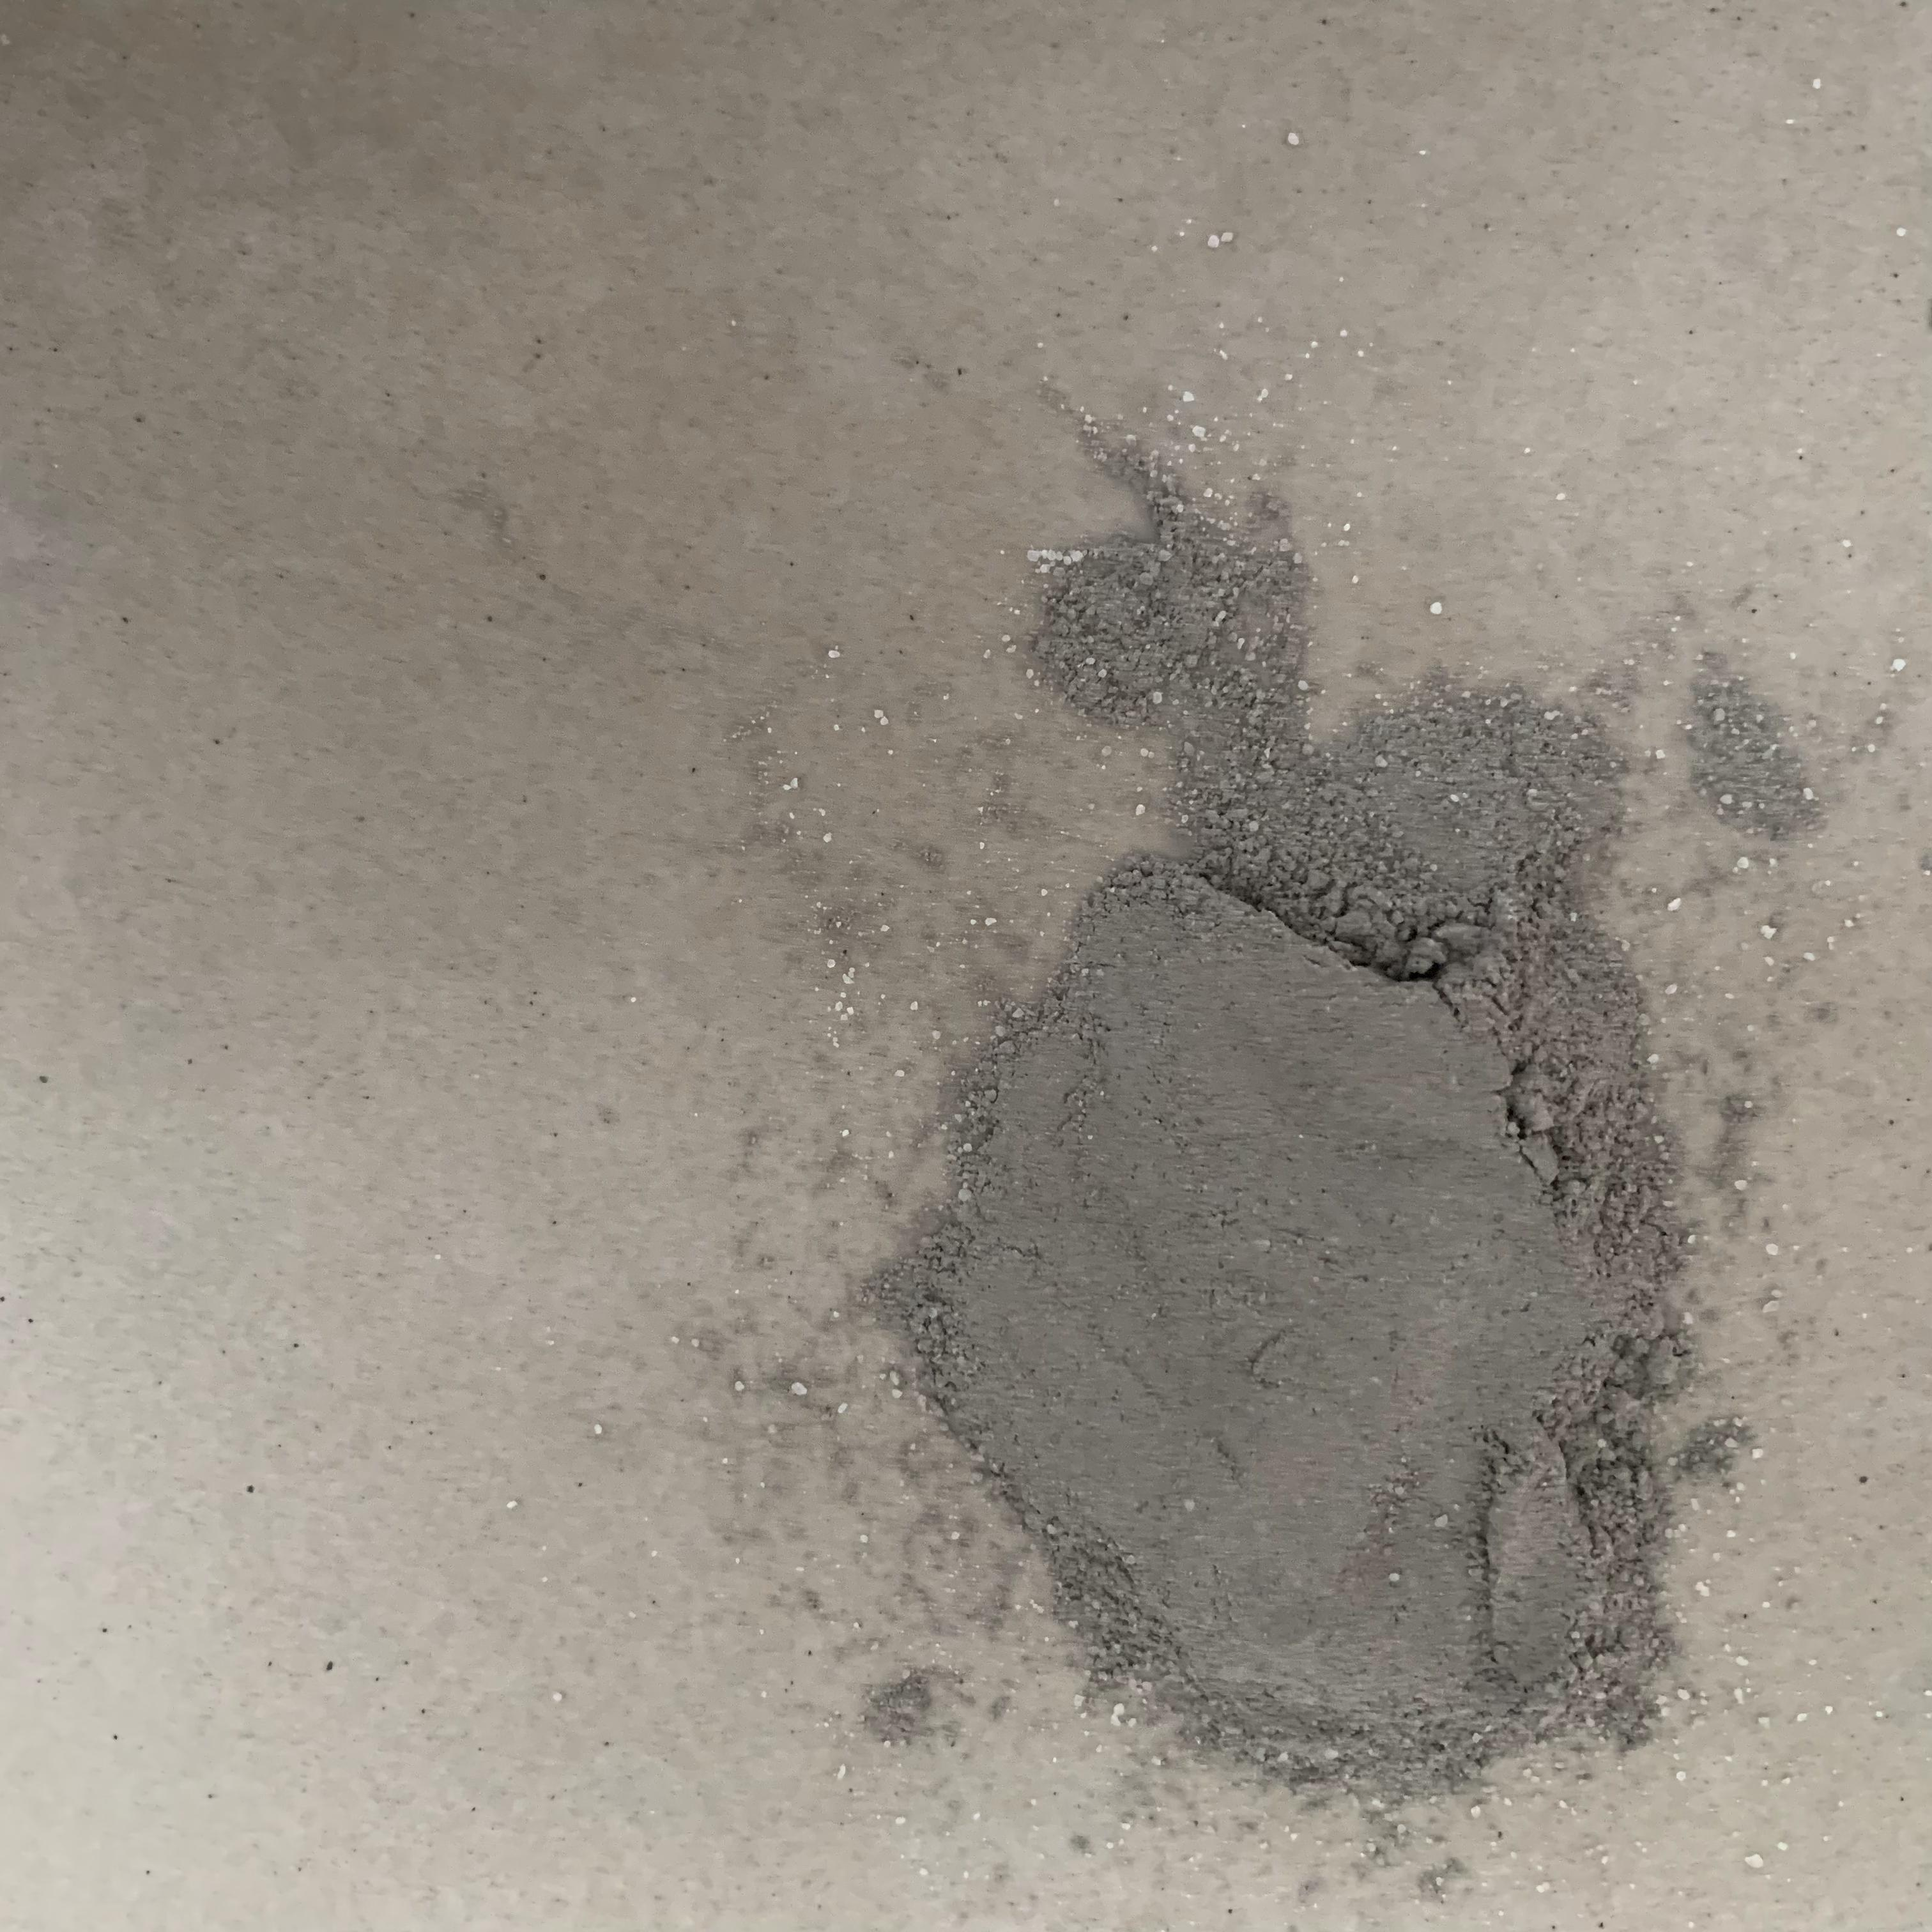ash pile: (607, 393, 1932, 1918)
